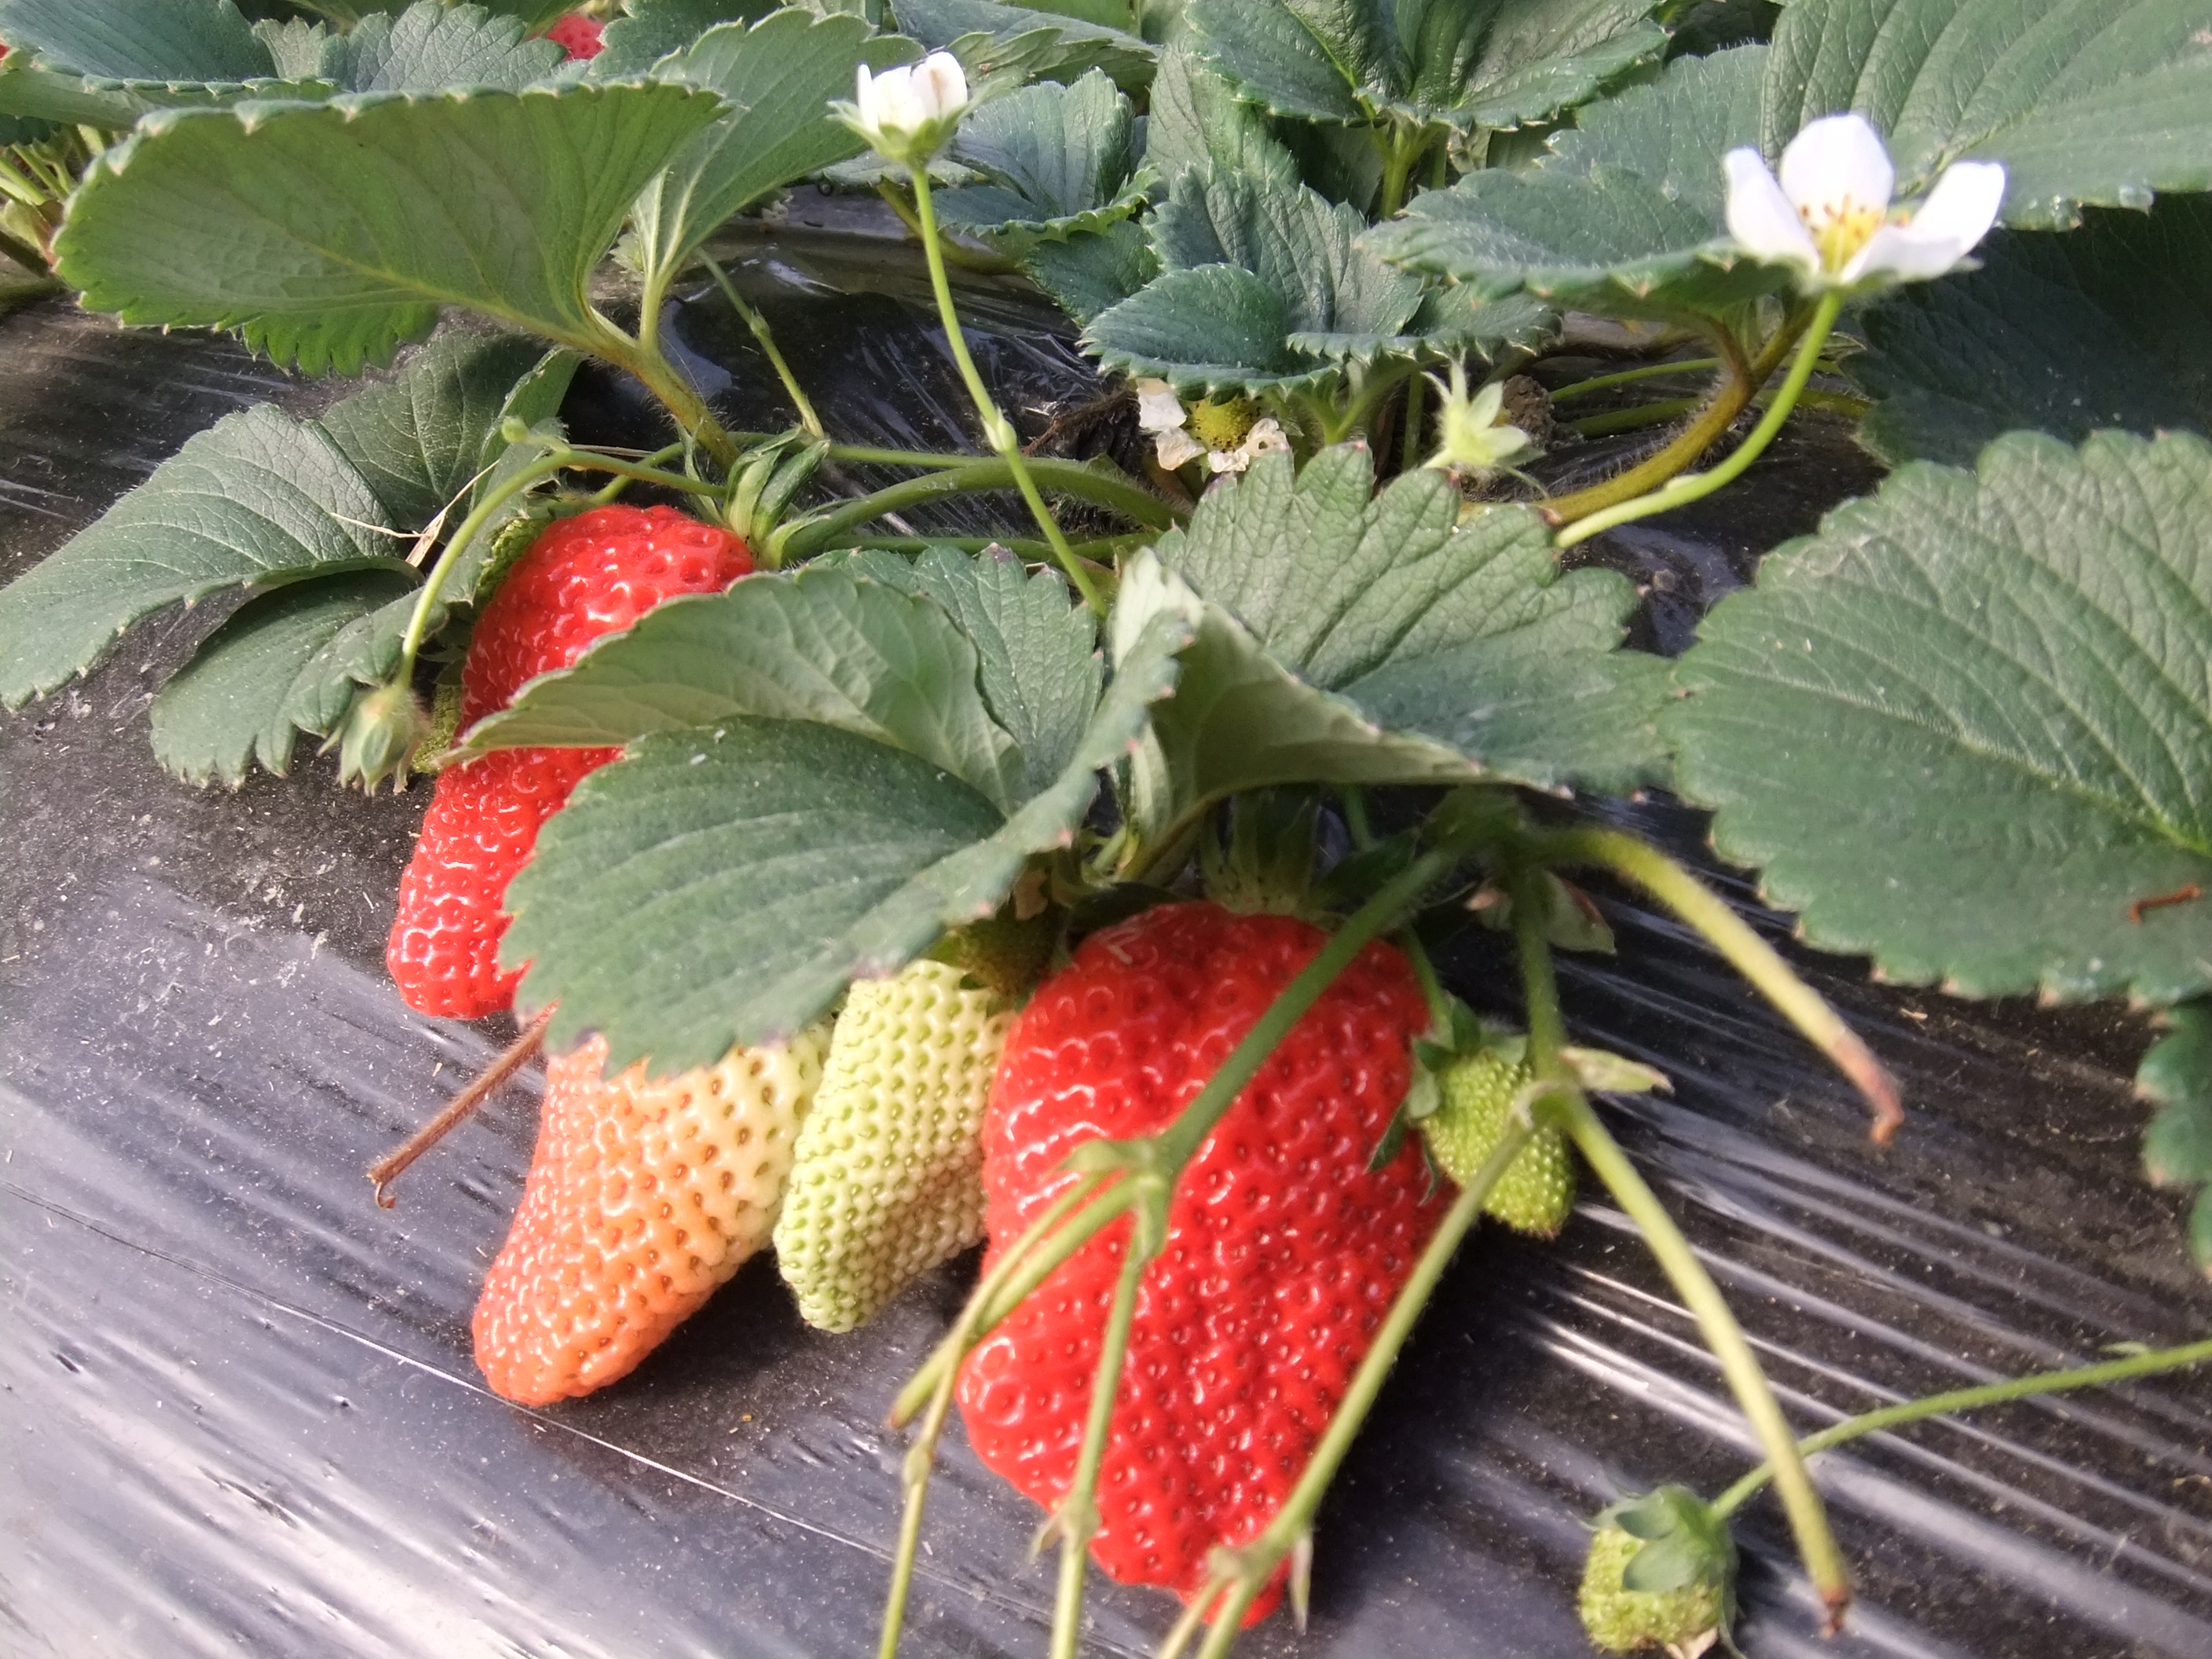StrawberryIrremovable: (456, 1007, 817, 1412), (770, 938, 1040, 1356), (1407, 1032, 1578, 1236), (1571, 1488, 1747, 1649)
StrawberryRemovable: (960, 917, 1472, 1624), (366, 479, 780, 1023)
StrawberryWedge: (954, 908, 1477, 1619), (361, 476, 780, 1018)
